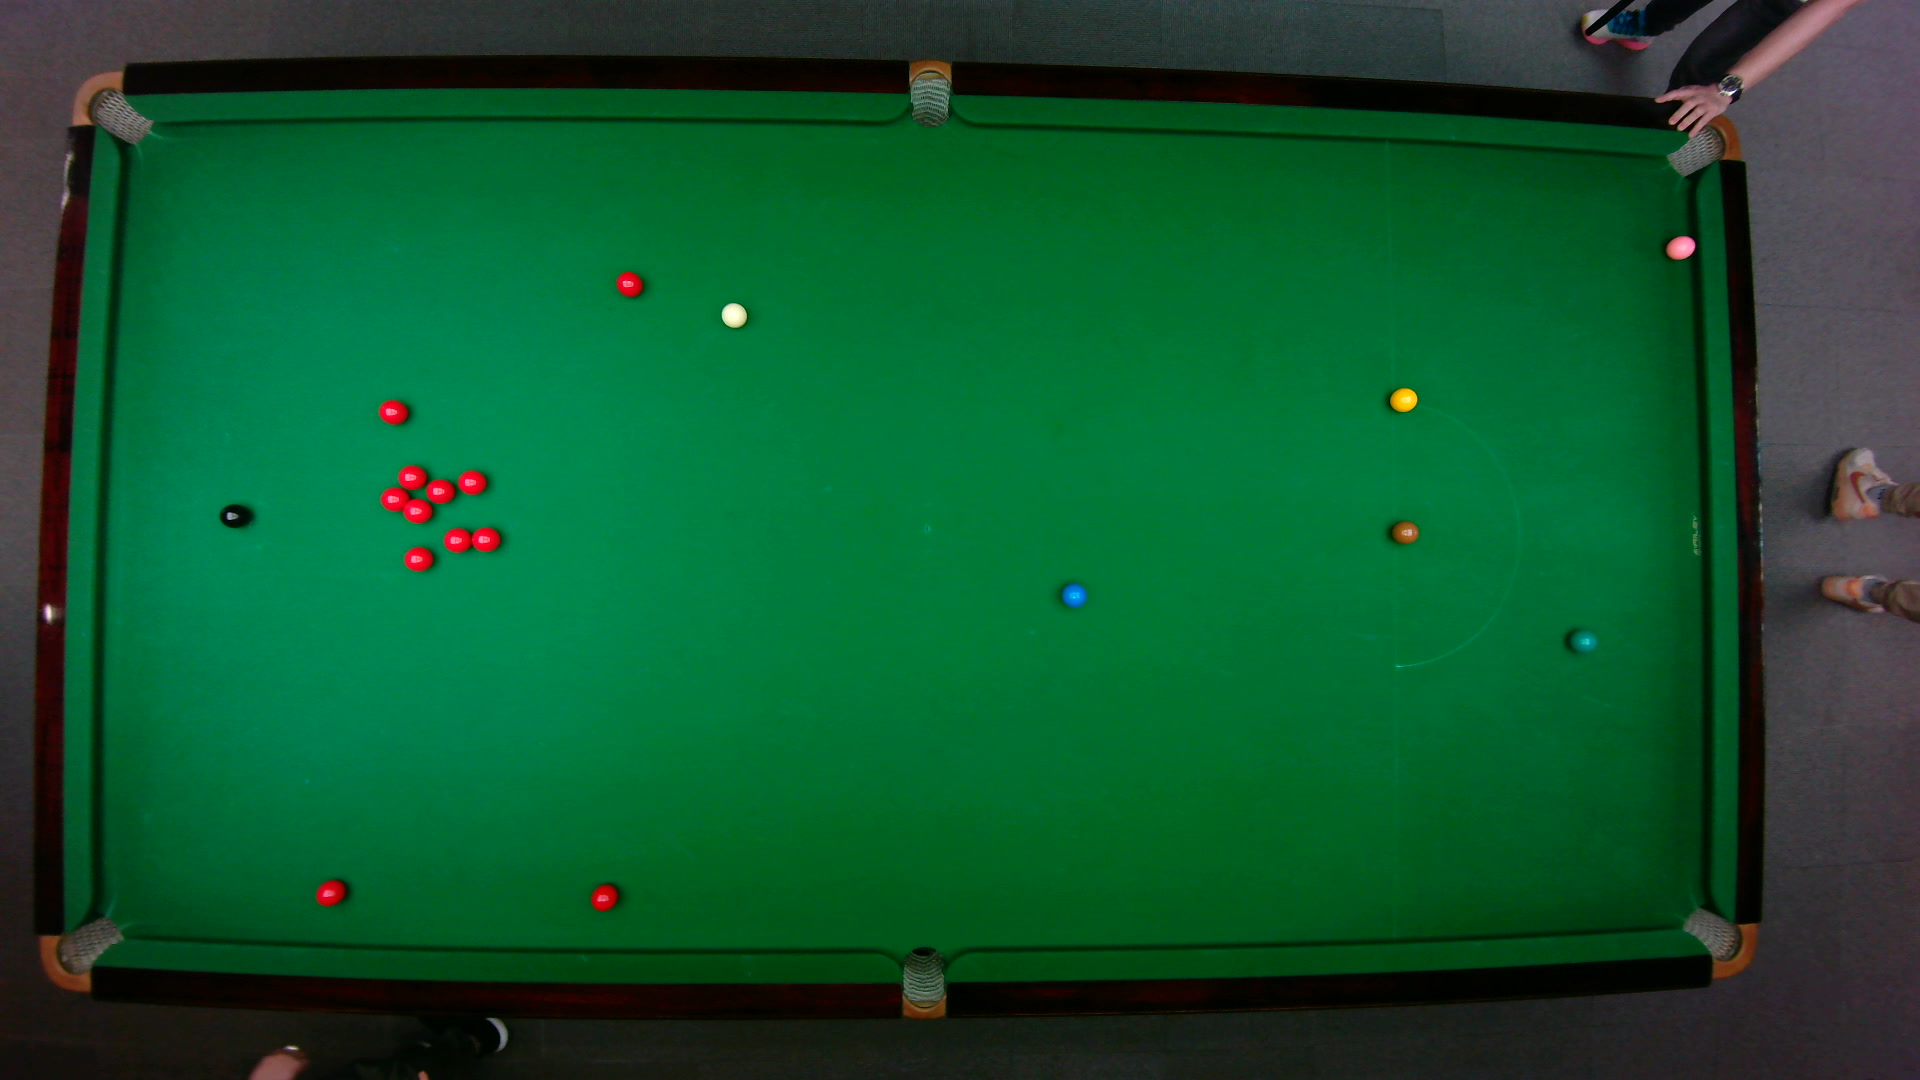bag: (37, 914, 125, 993), (69, 69, 153, 145), (1679, 905, 1756, 978), (1664, 105, 1741, 177), (901, 944, 944, 1021), (909, 57, 949, 127)
black: (218, 502, 251, 529)
blue: (1059, 580, 1087, 608)
brown: (1390, 520, 1419, 545)
green: (1567, 626, 1598, 653)
pink: (1663, 233, 1697, 260)
red: (314, 877, 347, 907), (469, 524, 501, 553), (442, 525, 473, 554), (400, 496, 433, 524), (396, 463, 427, 491), (402, 545, 434, 572), (422, 477, 456, 502), (615, 269, 644, 297), (456, 468, 487, 495), (378, 485, 409, 512), (377, 398, 407, 425)
white: (719, 301, 748, 328)
yellow: (589, 882, 618, 911), (1389, 385, 1418, 411)
zone: (1390, 402, 1519, 667)
